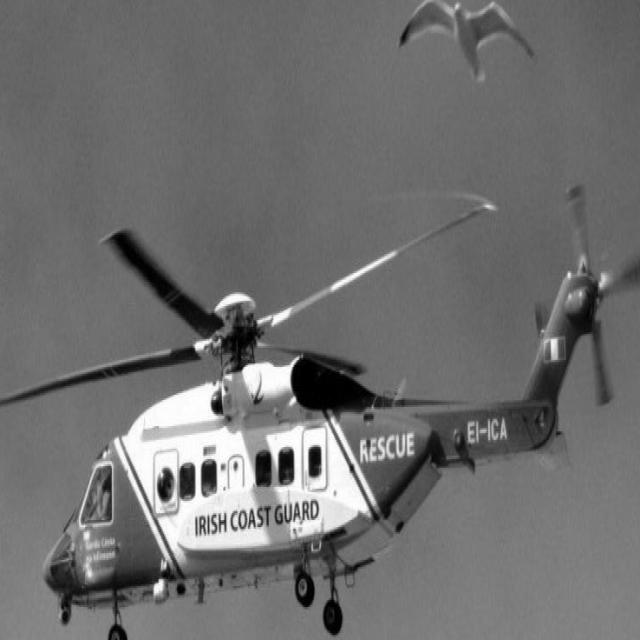helicopter: (1, 166, 640, 640)
